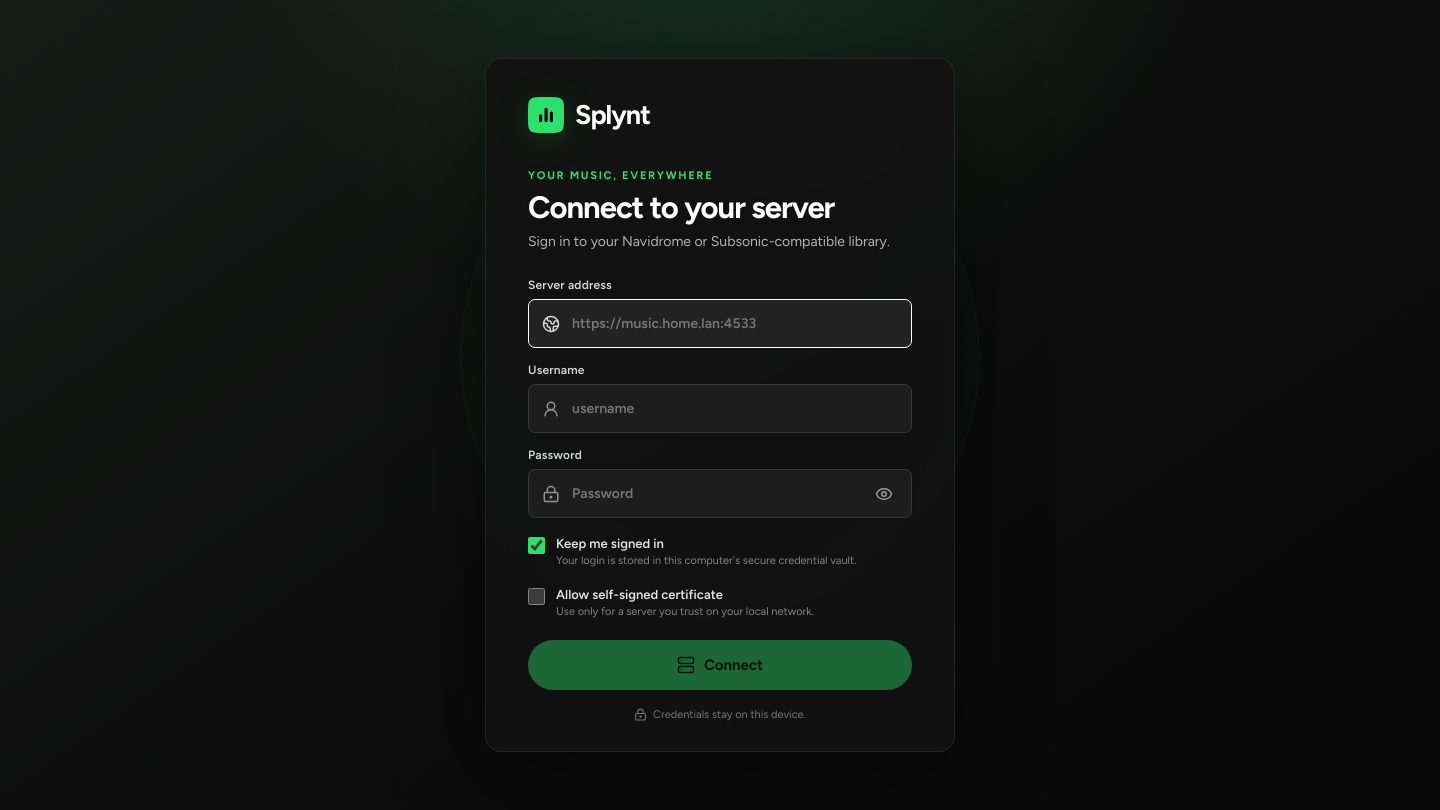
Test: Splynt Desktop authentication › opens the library rail at its default width on a fresh profile
Type "https://music.example.test" into the field labelled "Server address" at (734, 324), box [570, 314, 898, 333]
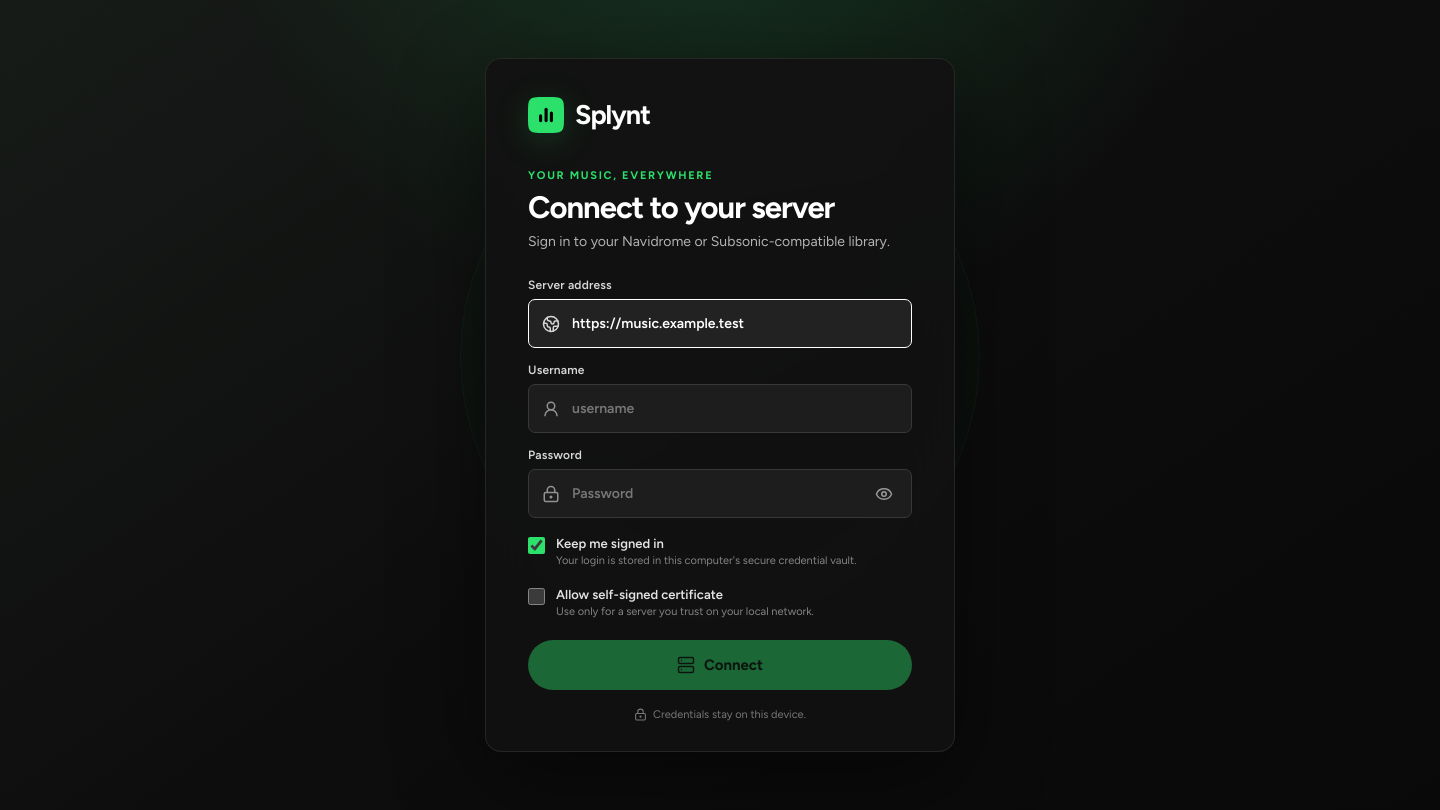
Type "elijah" into the field labelled "Username" at (734, 409), box [570, 399, 898, 418]
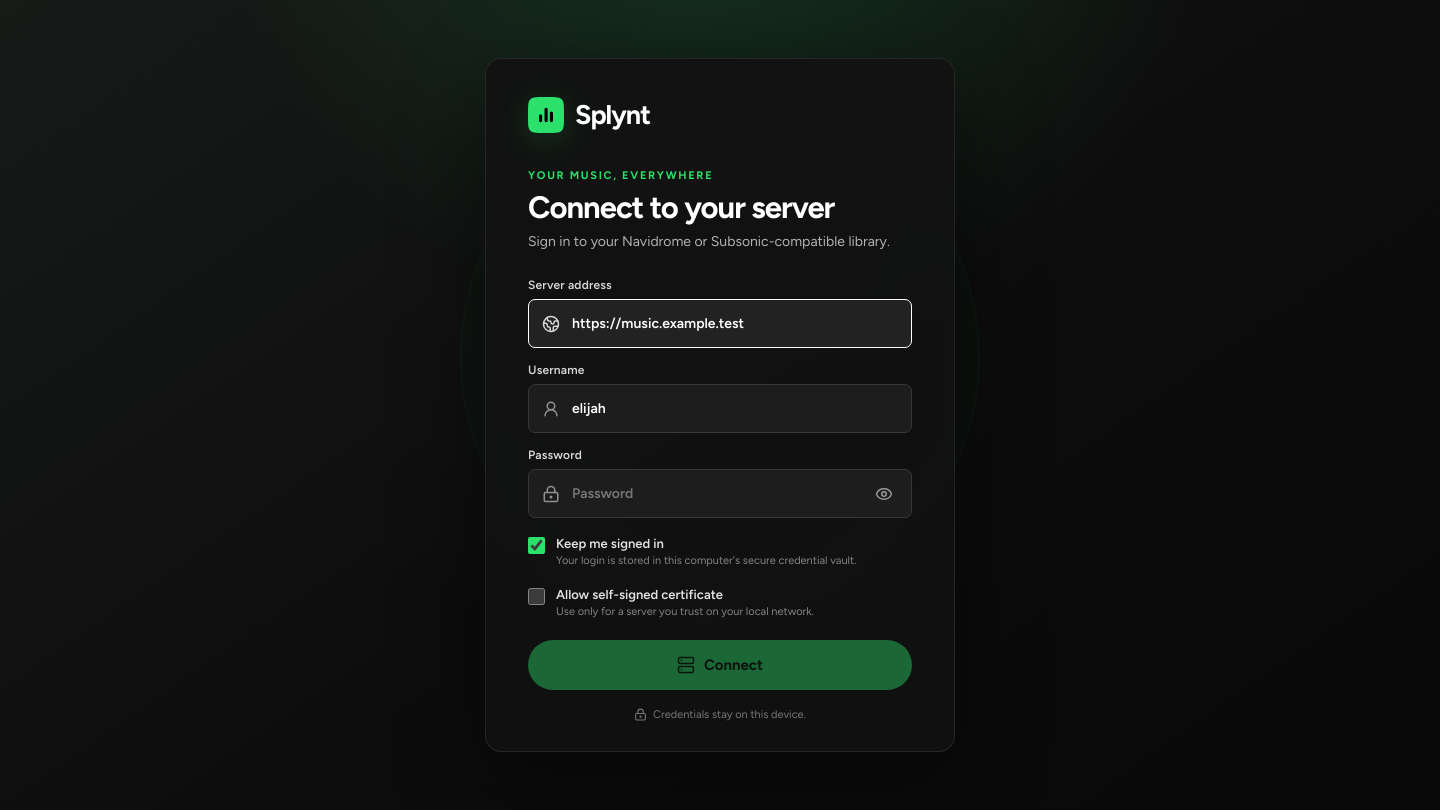
Type "secret" into the password field labelled "Password" at (715, 494), box [570, 484, 860, 503]
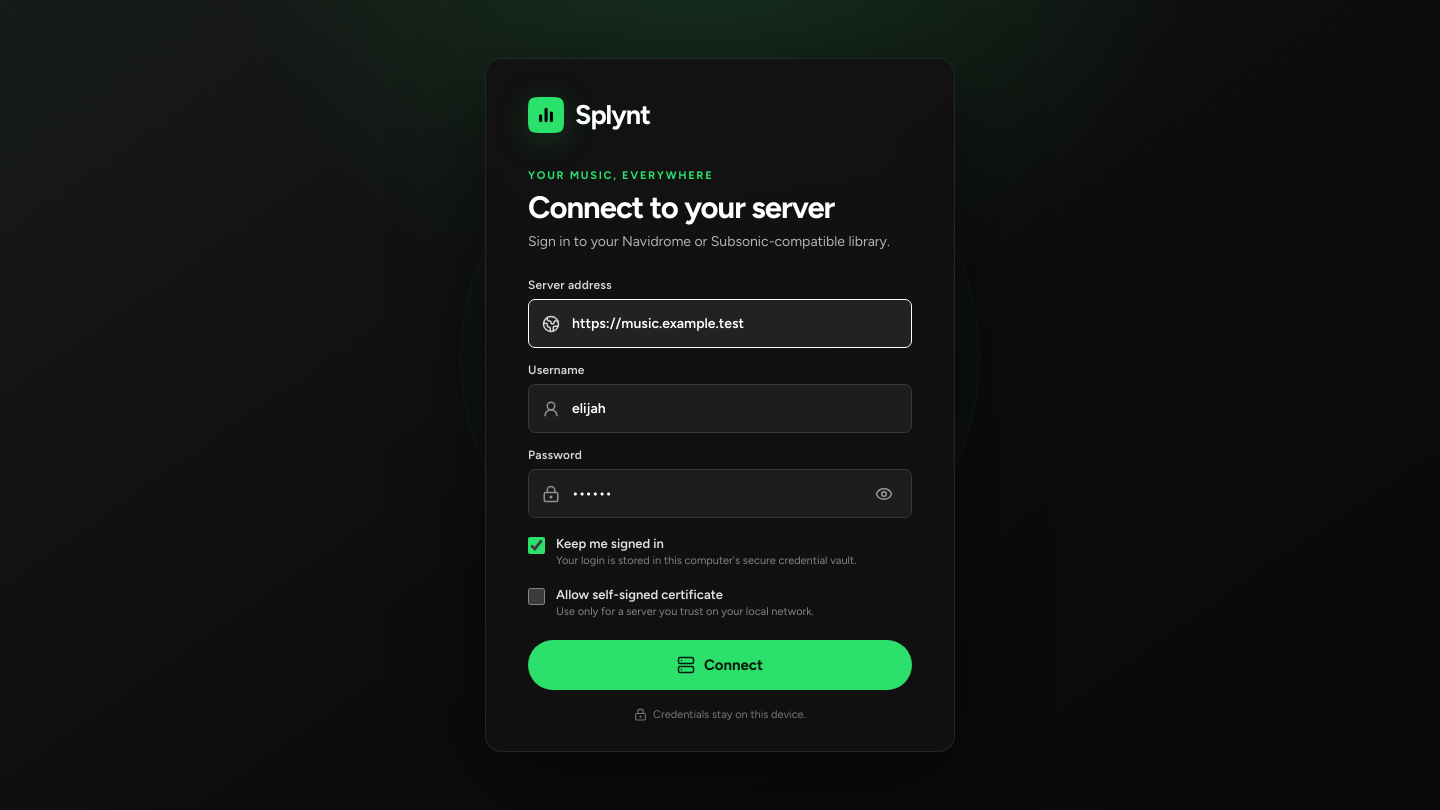
Click the button "Connect" at (720, 665), box [528, 640, 912, 690]
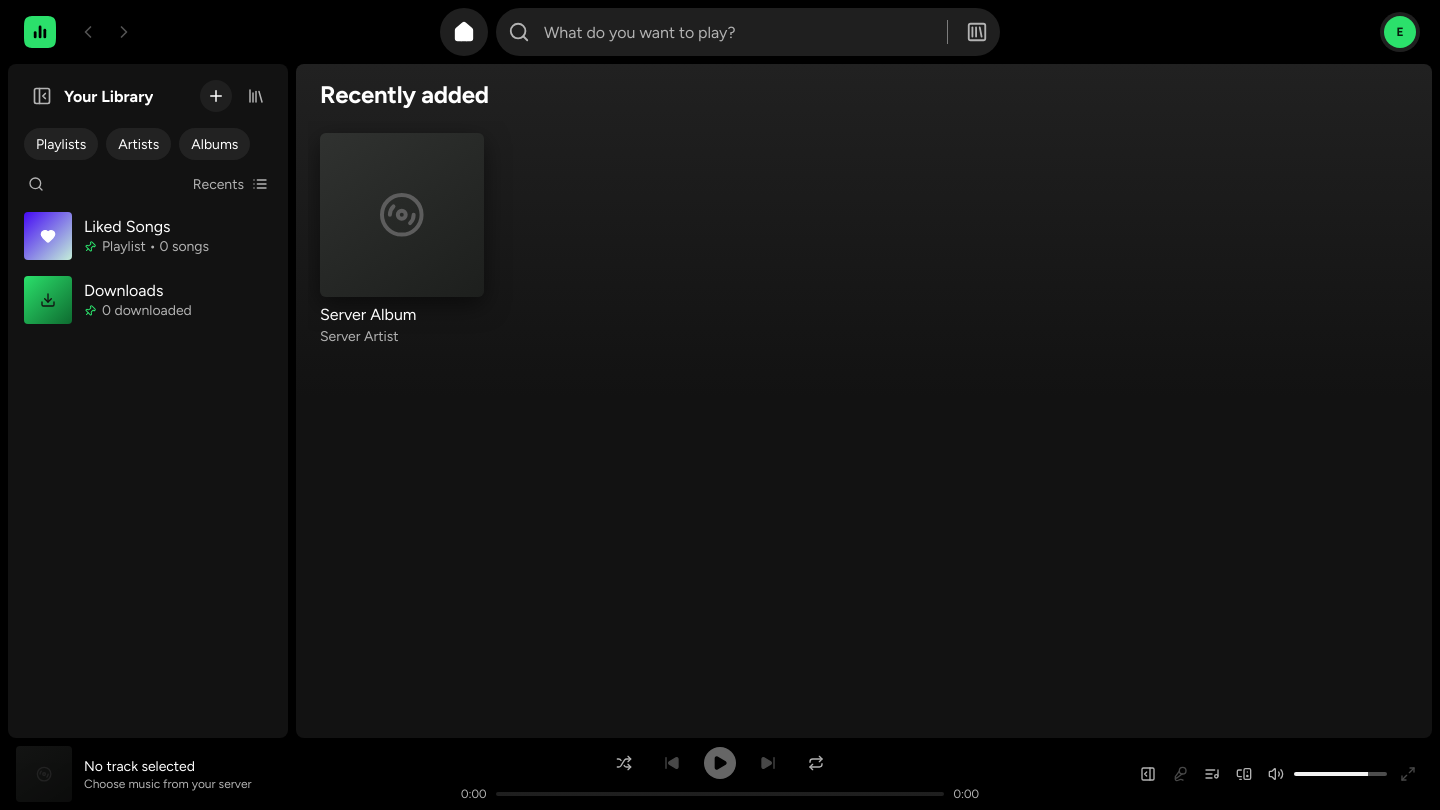
Expected: the button named "Search your library" is shown, [20, 168, 52, 200]
Click the button named "Open account menu" at (1400, 32), box [1384, 16, 1416, 48]
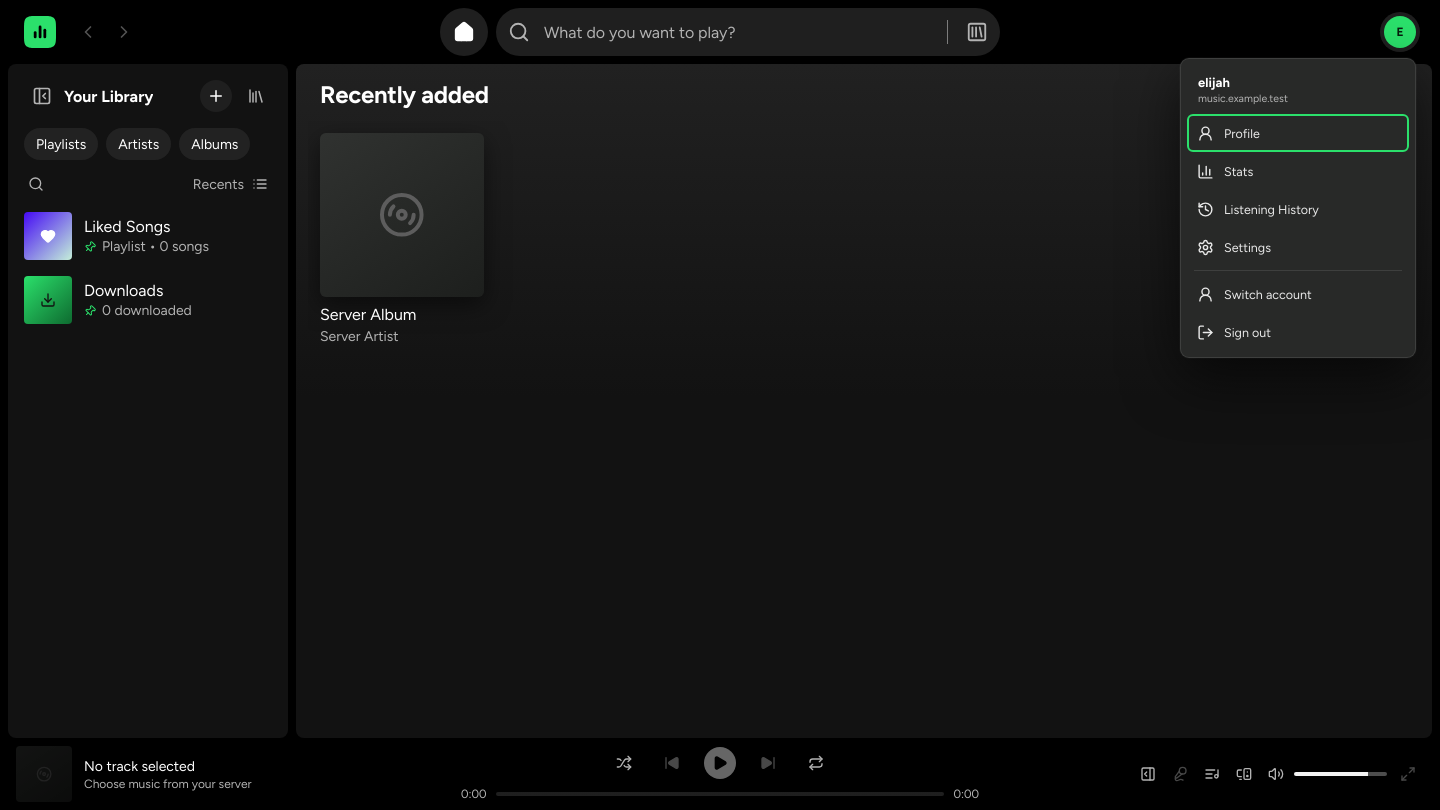
Expected: the menu item "Sign out" is shown, [1187, 313, 1409, 351]
